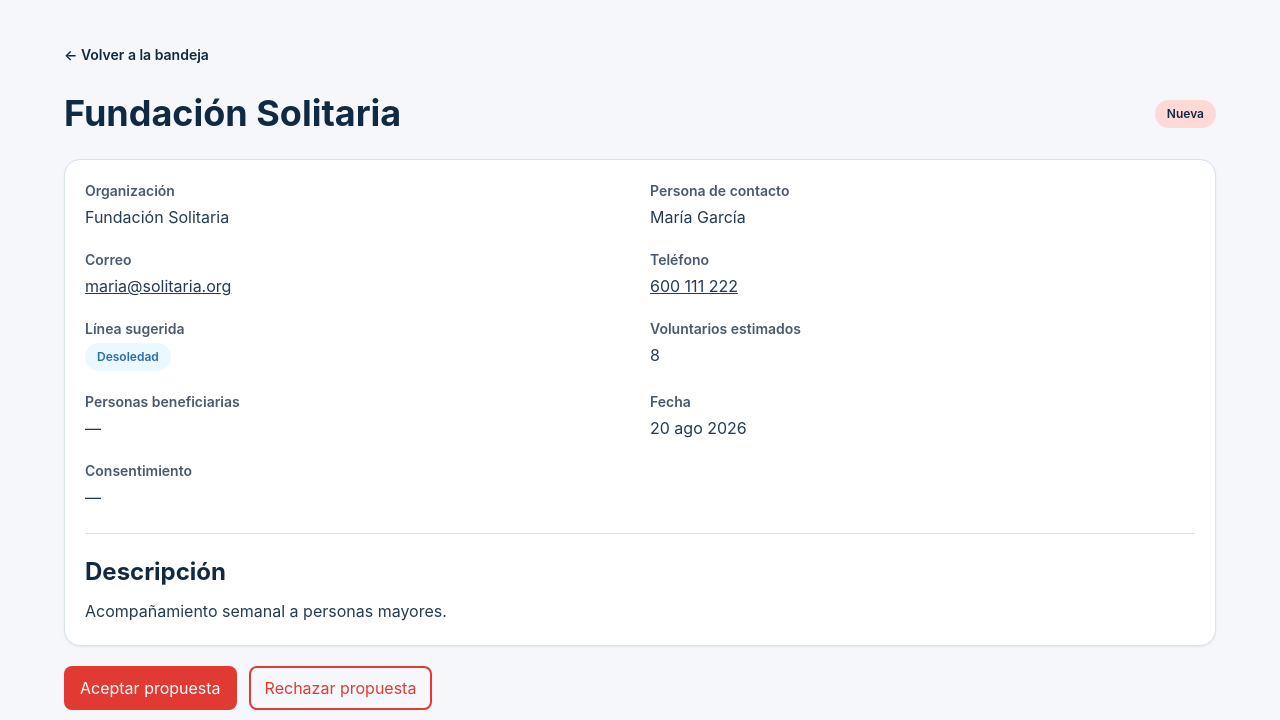
Scenario: ProposalDetailPage › rechaza sin motivo y actualiza el estado a REJECTED
Expected: the heading "Fundación Solitaria" is shown, [64, 92, 401, 135]
Click the button "Rechazar propuesta".
click(340, 688)  # box [249, 666, 432, 710]
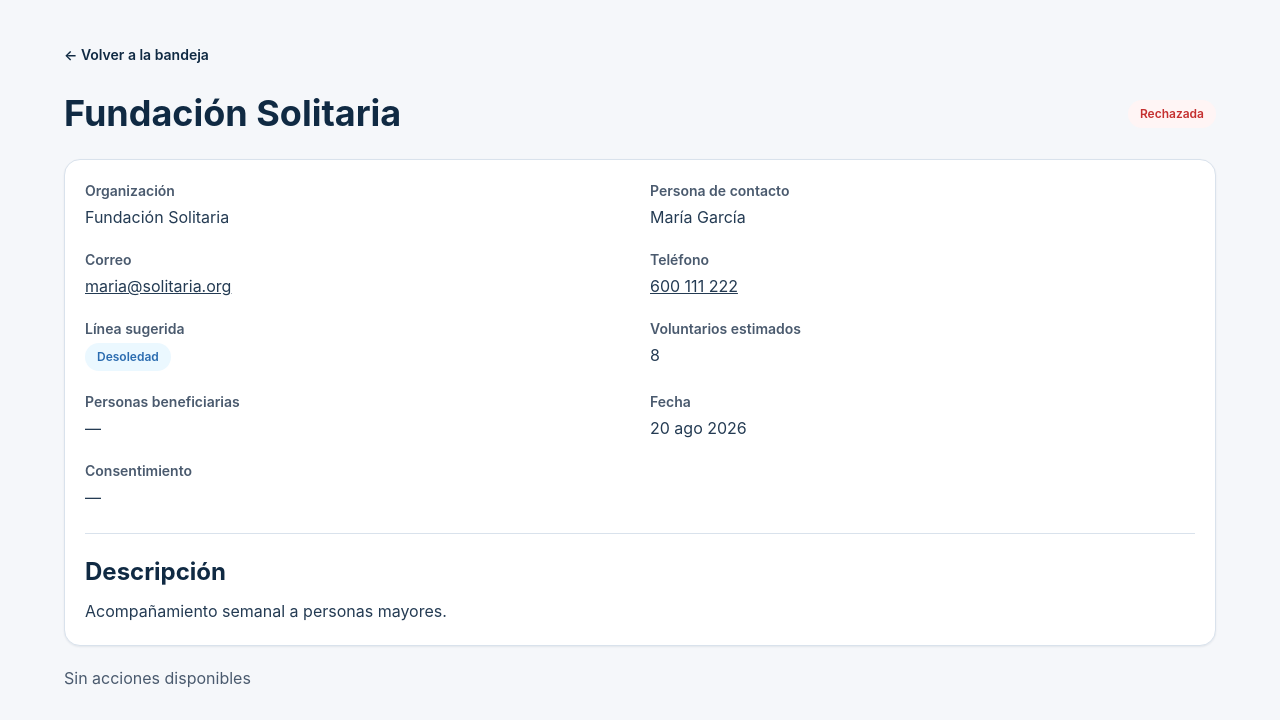
Now the text "Sin acciones disponibles" is shown, box [64, 666, 251, 690]
Now the button "Aceptar propuesta" is gone
